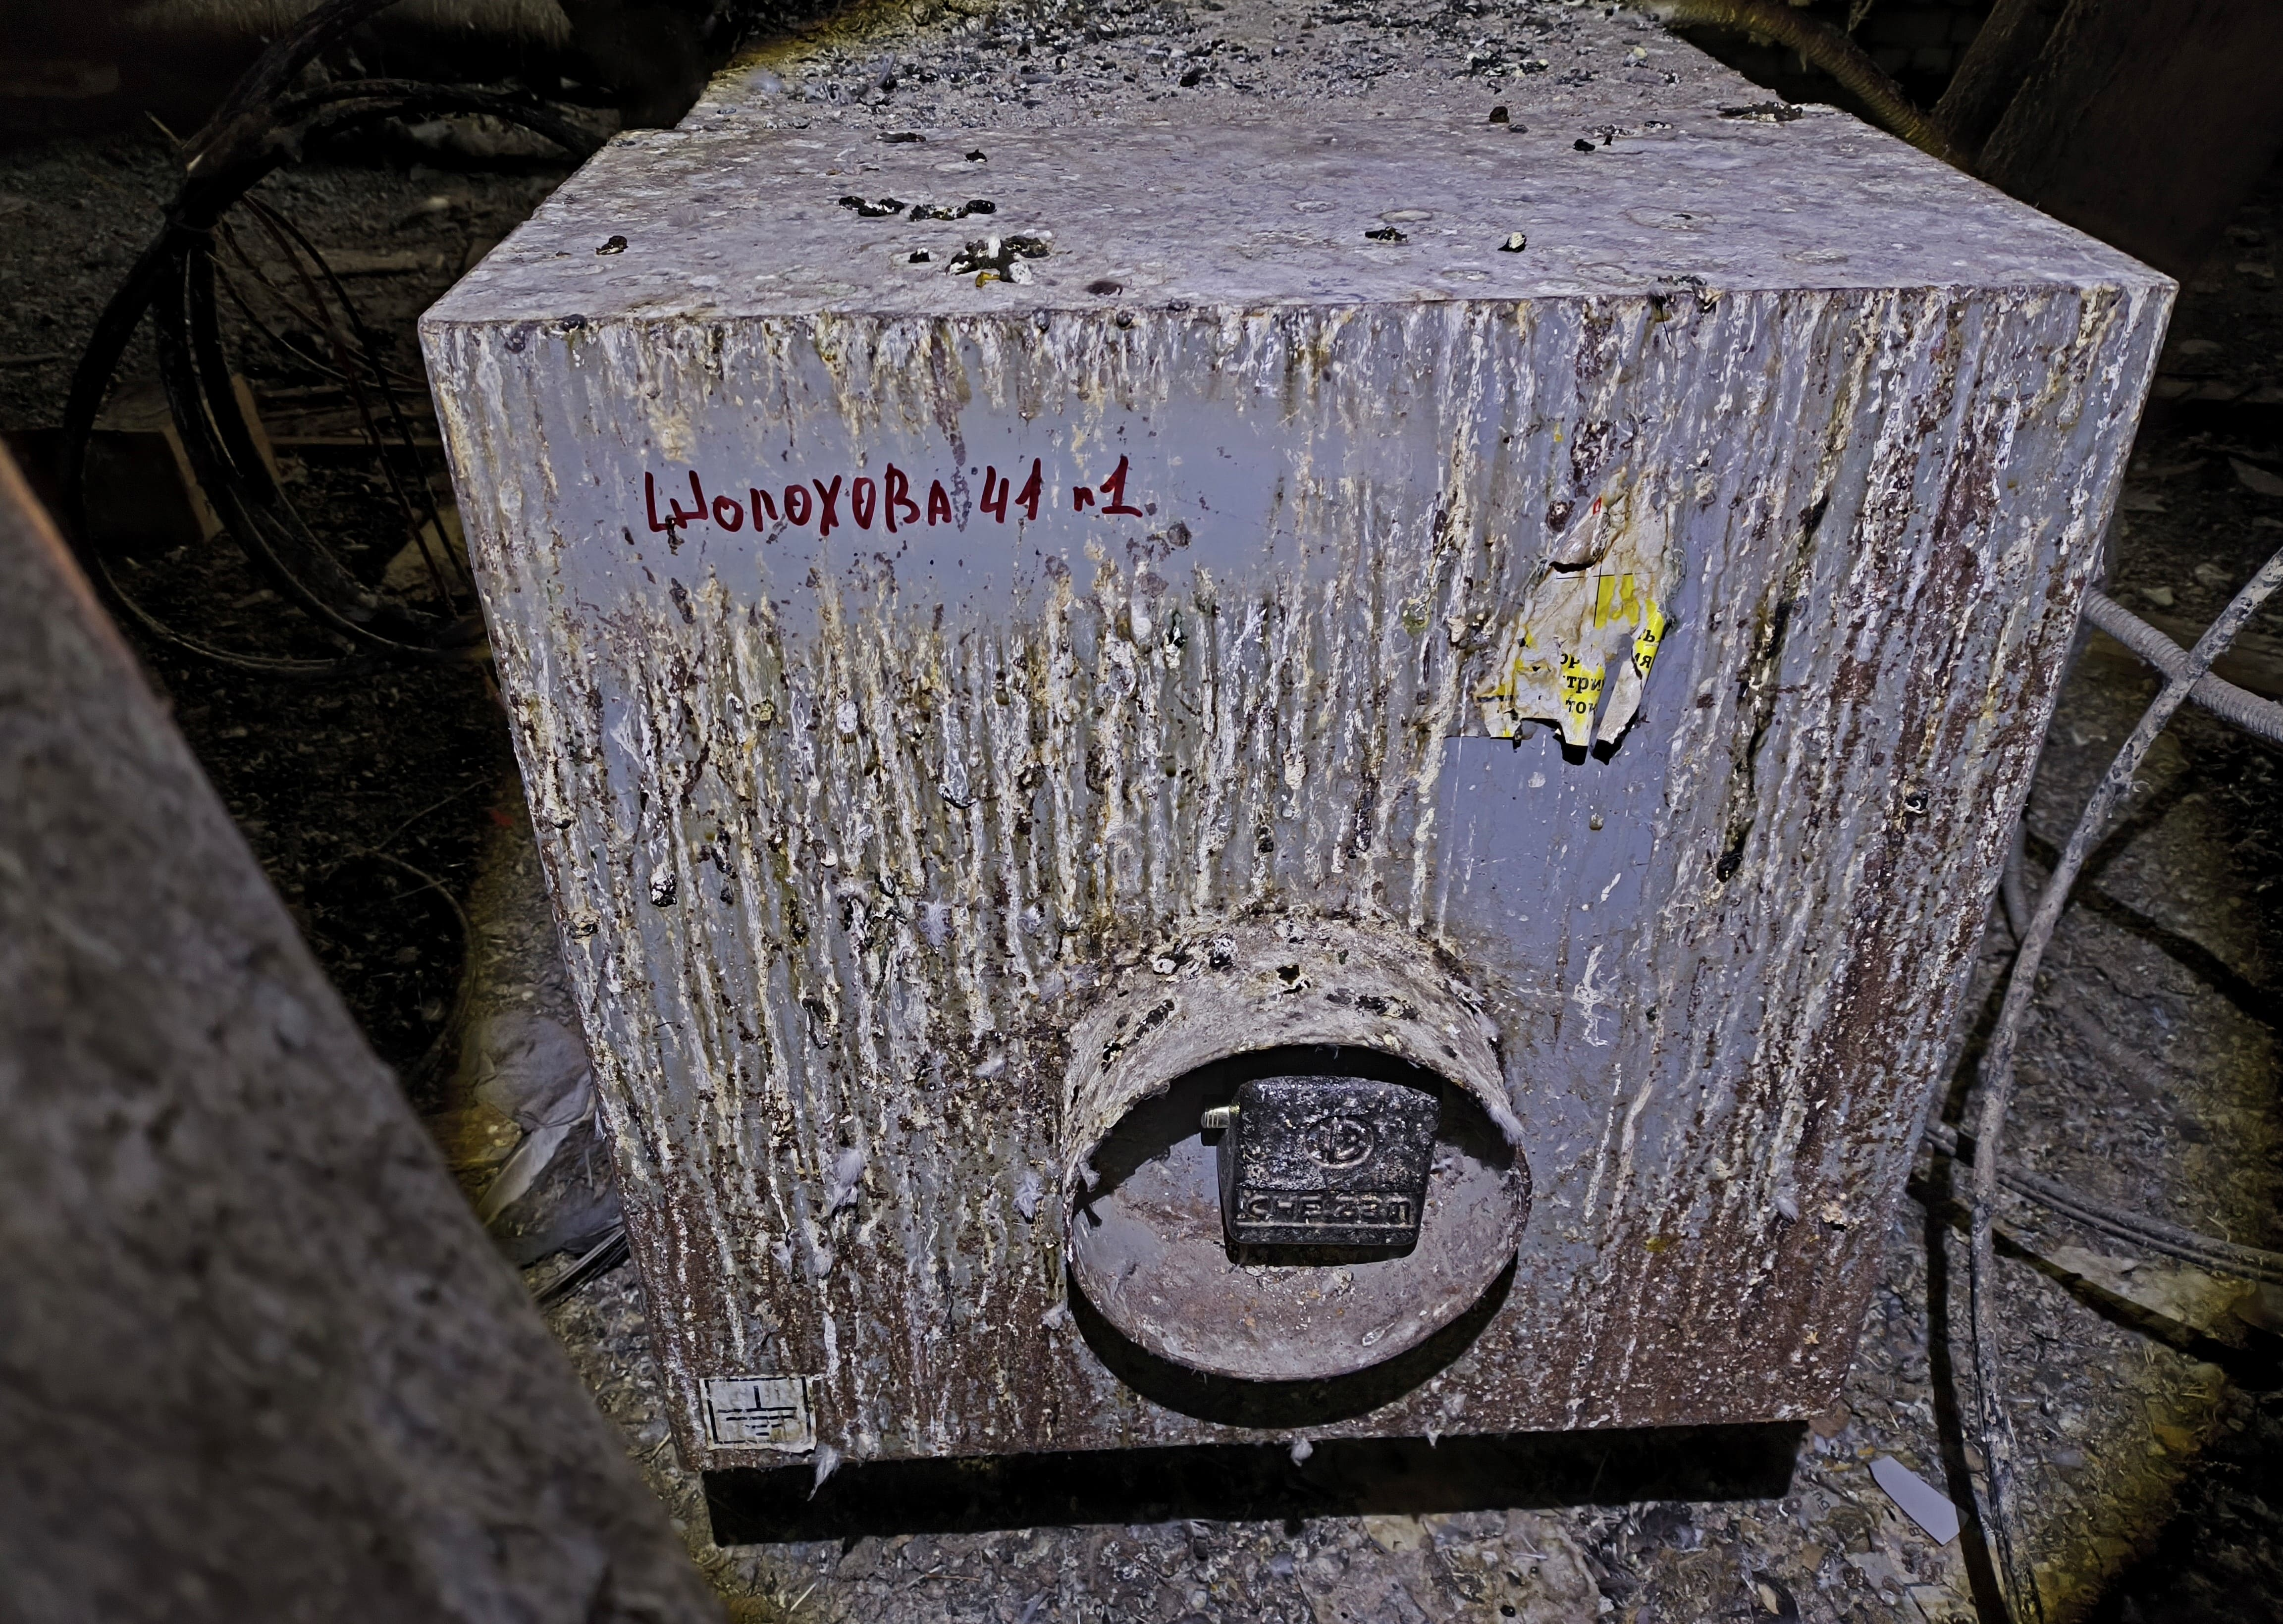shta-9: (402, 18, 2199, 1482)
